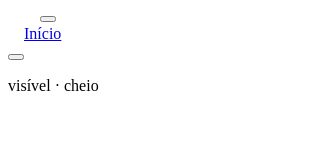
it: AppSidebar › estreita e volta a expandir o menu pelo botão do rodapé
Click the button named "Recolher ou expandir o menu lateral" at coordinates (16, 57), box [8,54,24,60]
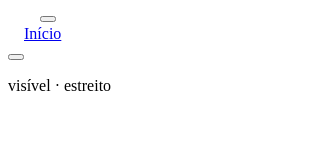
Expected: the text with test id "shell" shows "estreito", [64,77,111,94]
Click the button named "Recolher ou expandir o menu lateral" at coordinates (16, 57), box [8,54,24,60]
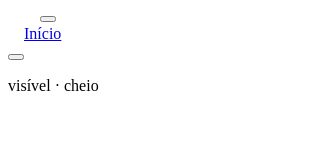
Expected: the text with test id "shell" shows "cheio", [64,77,99,94]
